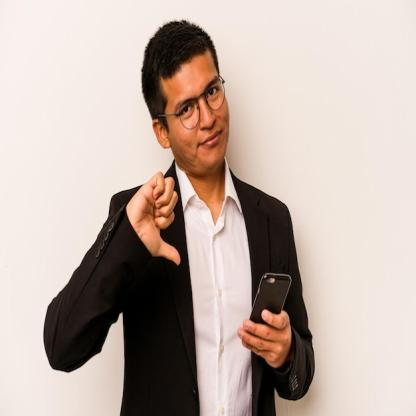thumb_down: (124, 167, 184, 271)
